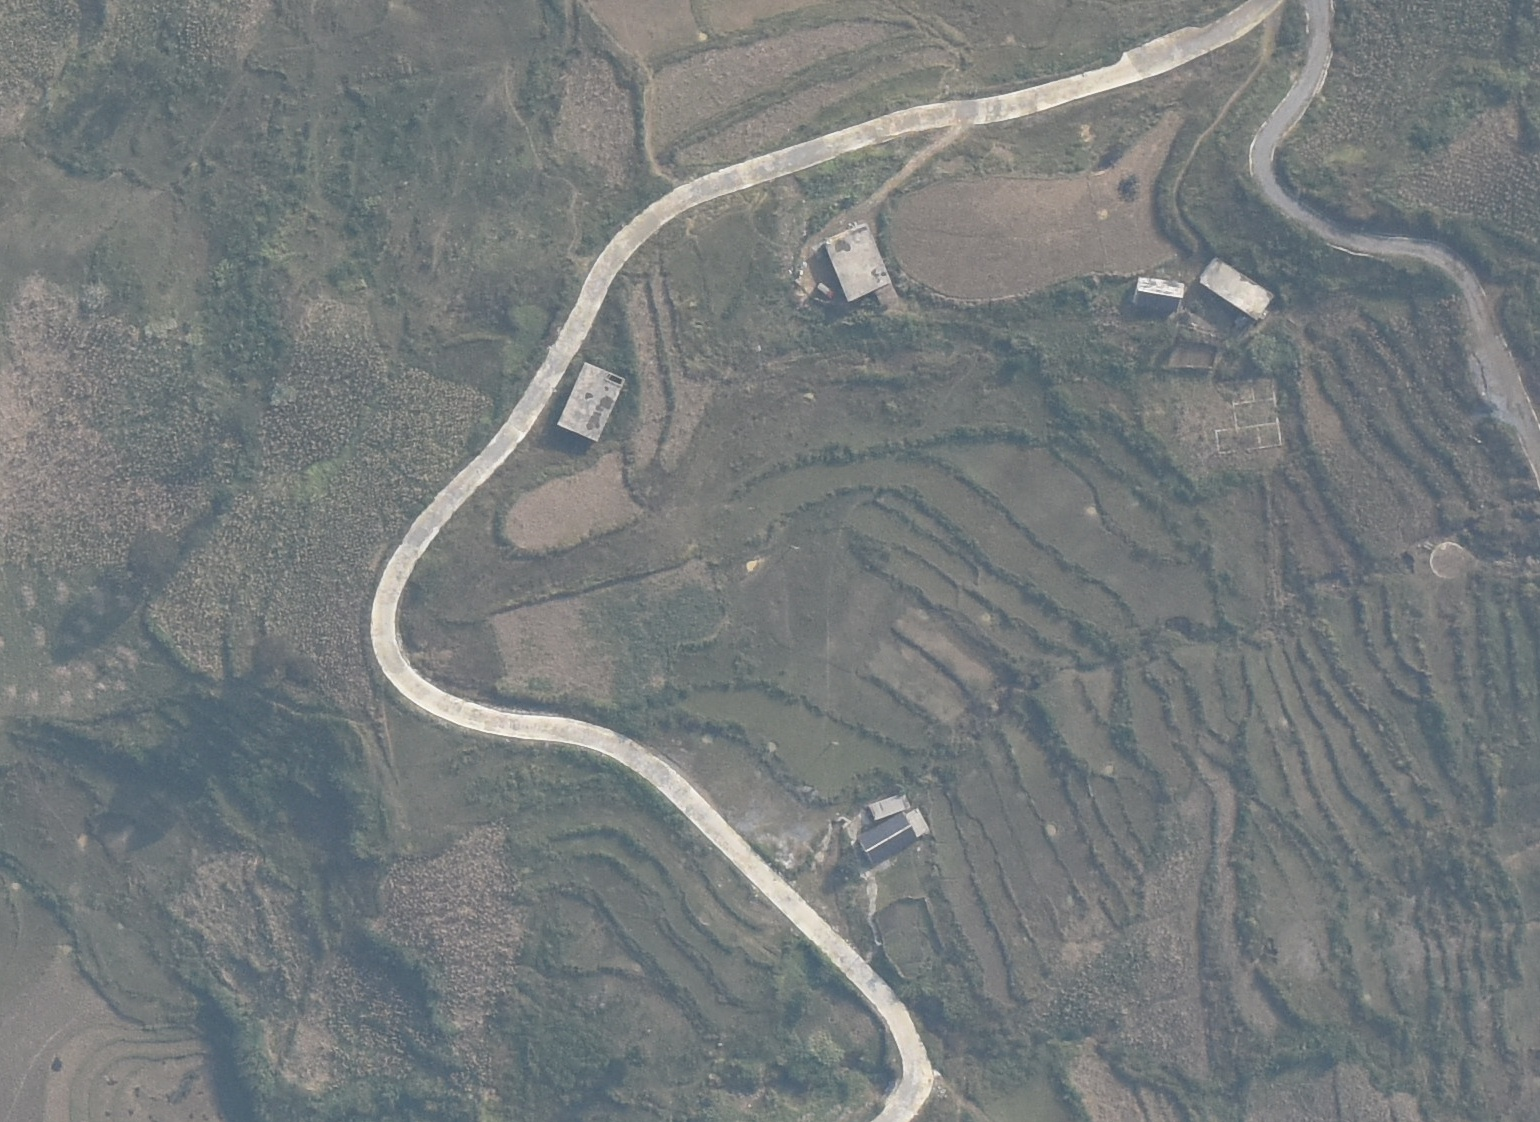building: (551, 360, 627, 446), (820, 219, 890, 307), (1200, 243, 1277, 322), (852, 792, 931, 862), (1129, 266, 1188, 321)
